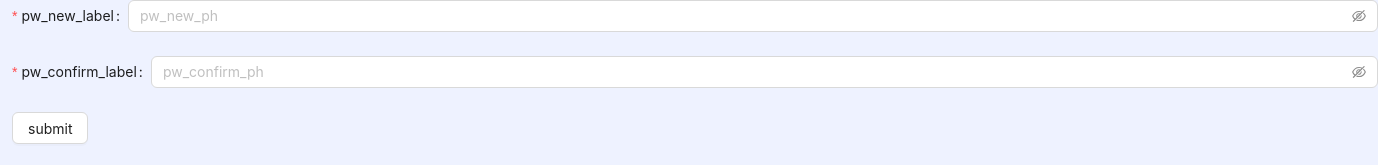
Test: PasswordForm › rejects when confirm does not match new password
The image size is (1378, 165).
In the password field with placeholder "pw_new_ph": [744, 16] box x1=140 y1=5 x2=1348 y2=27, type "ValidPass1"
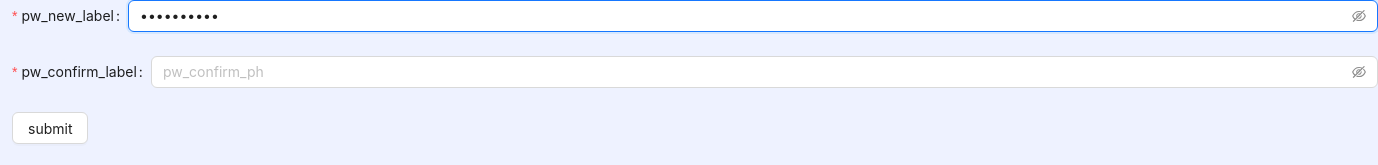
In the password field with placeholder "pw_confirm_ph": [755, 72] box x1=163 y1=61 x2=1348 y2=83, type "Different1"
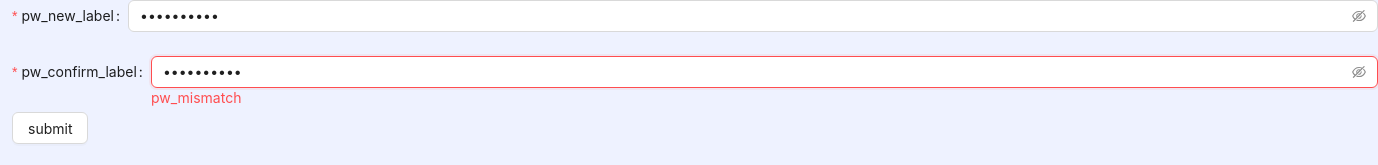
Click the button "submit": [50, 128] box x1=12 y1=112 x2=88 y2=144
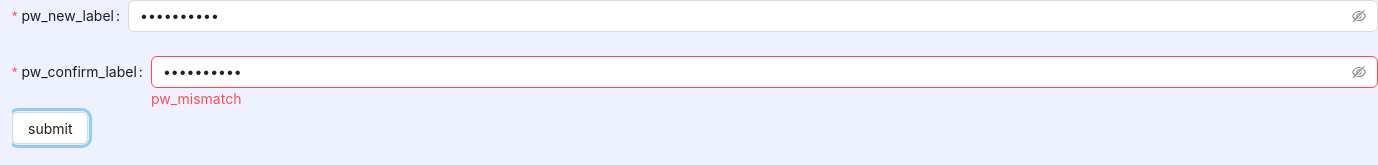
expect the text "pw_mismatch" is shown: met, box x1=151 y1=90 x2=241 y2=107
